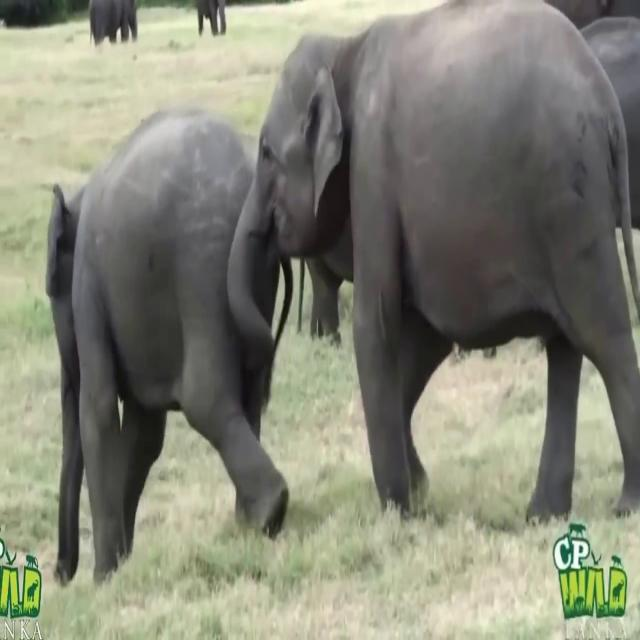Elephant: (227, 0, 639, 527), (46, 105, 294, 588), (89, 0, 138, 46), (196, 0, 226, 36)
